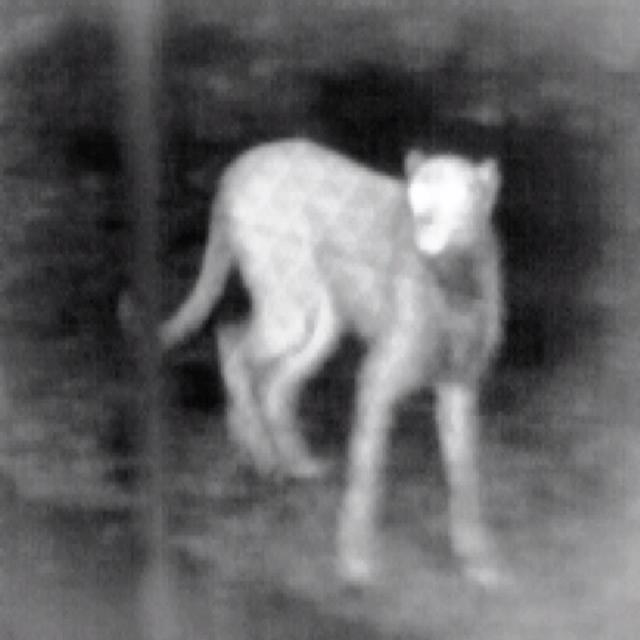cheetah: (121, 140, 503, 588)
